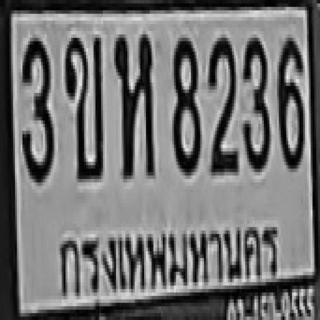A02: (64, 35, 101, 179)
A41: (113, 31, 152, 175)
N02: (208, 34, 238, 172)
N03: (20, 35, 51, 179), (242, 34, 270, 169)
N06: (277, 34, 303, 169)
N08: (171, 34, 199, 172)
P04: (51, 204, 280, 298)
